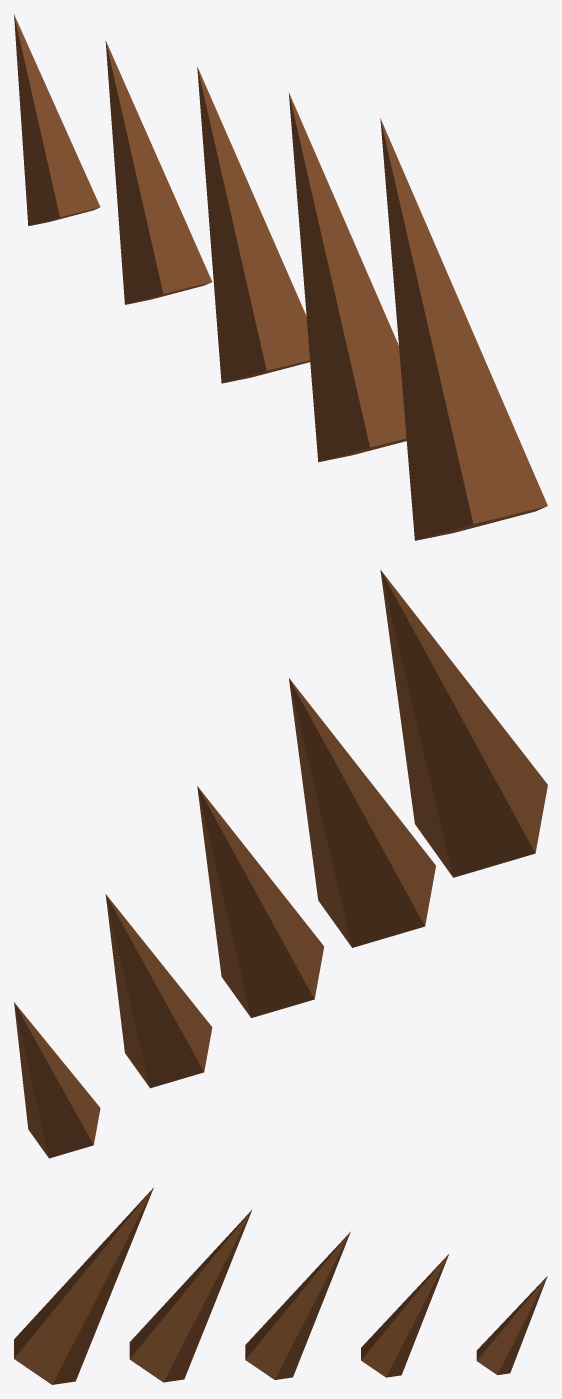
The model's file is dc_horn_row.glb.
3 views of the same model, one above another, from view 1: azimuth 30°, elevation 25°; view 2: azimuth 150°, elevation 25°; view 3: azimuth 270°, elevation 25° (orthographic). The views are drawn at different scales.
Visible parts, largest first — view 1: part.dc_horn_row; view 2: part.dc_horn_row; view 3: part.dc_horn_row.
Part boxes in pixels (left/top/right/bottom): part.dc_horn_row: left=14, top=14, right=547, bottom=540; part.dc_horn_row: left=14, top=570, right=547, bottom=1158; part.dc_horn_row: left=14, top=1187, right=547, bottom=1384.
Bounding box in the file's own units: 0.1331 × 0.3814 × 0.949.
